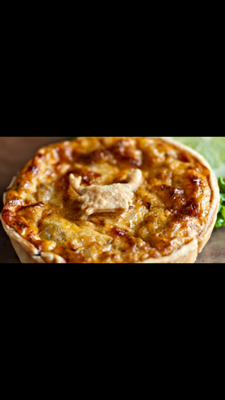sandwich: (1, 137, 220, 261)
